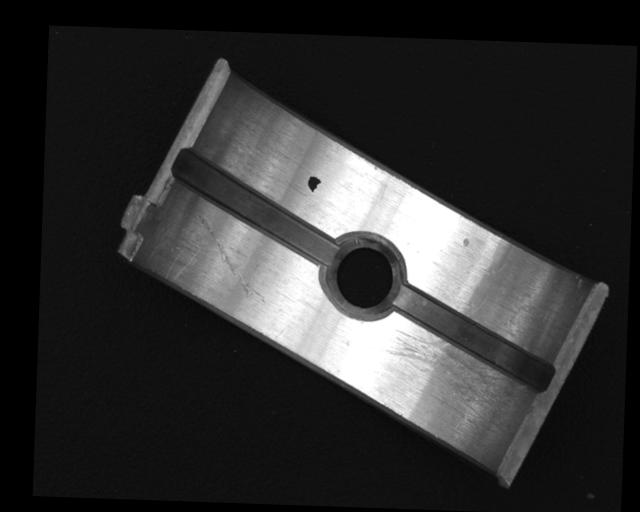blot: (307, 175, 322, 193)
bruise: (462, 237, 470, 248)
gap: (168, 147, 339, 266), (391, 284, 556, 391)
hole: (324, 234, 403, 320)
nick: (194, 213, 269, 303)
scratch: (368, 325, 528, 434)
